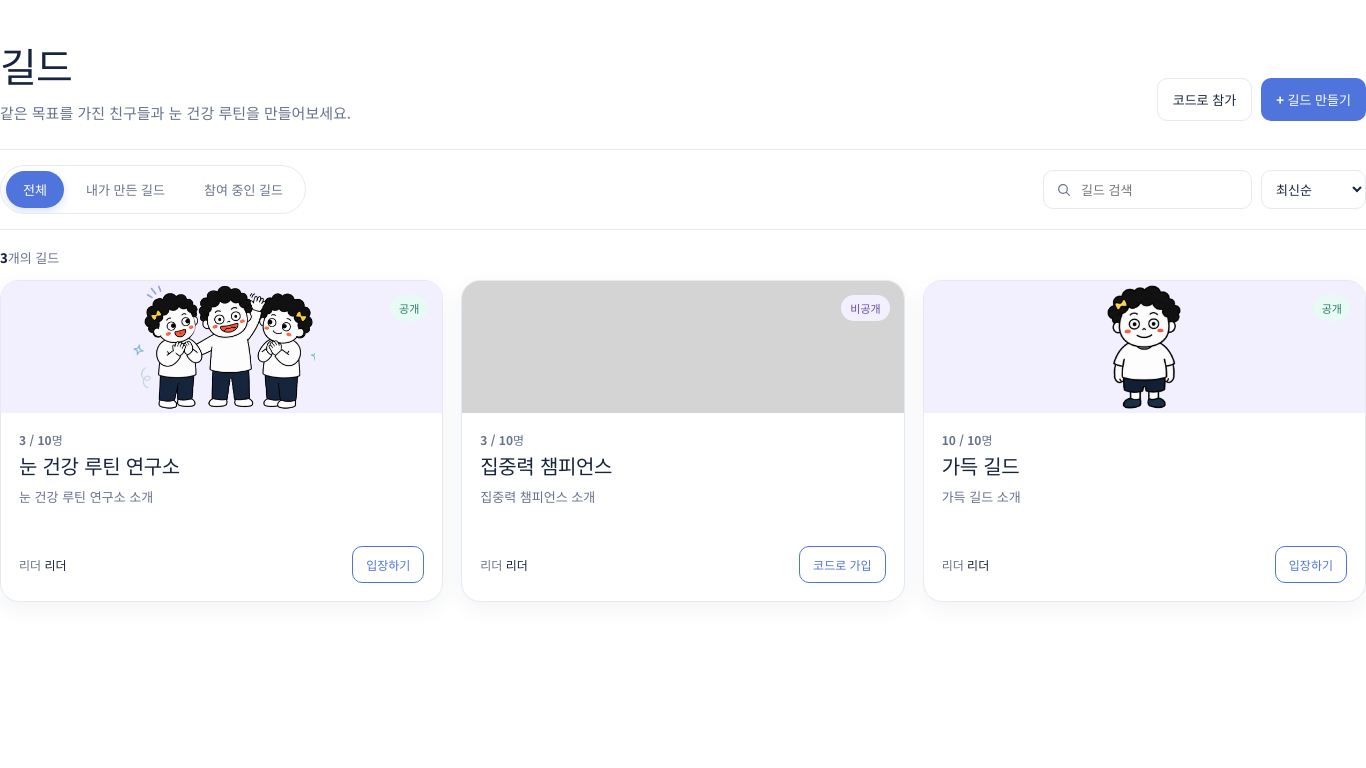
Test: CommunityPage › shows live character counters for group name and description
Click the button with test id "open-create-dialog": click(1314, 100) [1261, 78, 1365, 121]
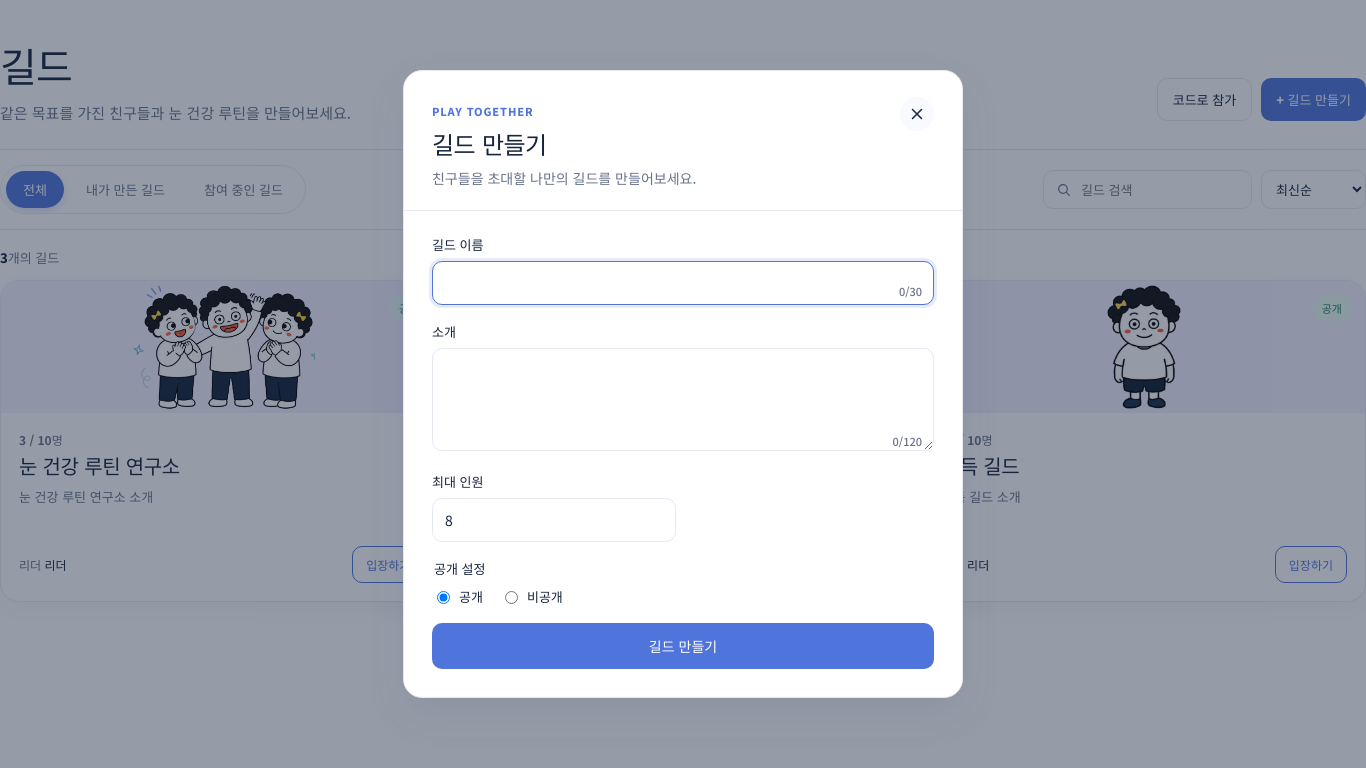
Check: the text with test id "create-group-name-count" reads "0/30", box [899, 283, 922, 299]
Check: the text with test id "create-group-description-count" reads "0/120", box [893, 433, 922, 449]
In the field with test id "create-group-name": (683, 283) [432, 261, 934, 305], type "abcd"
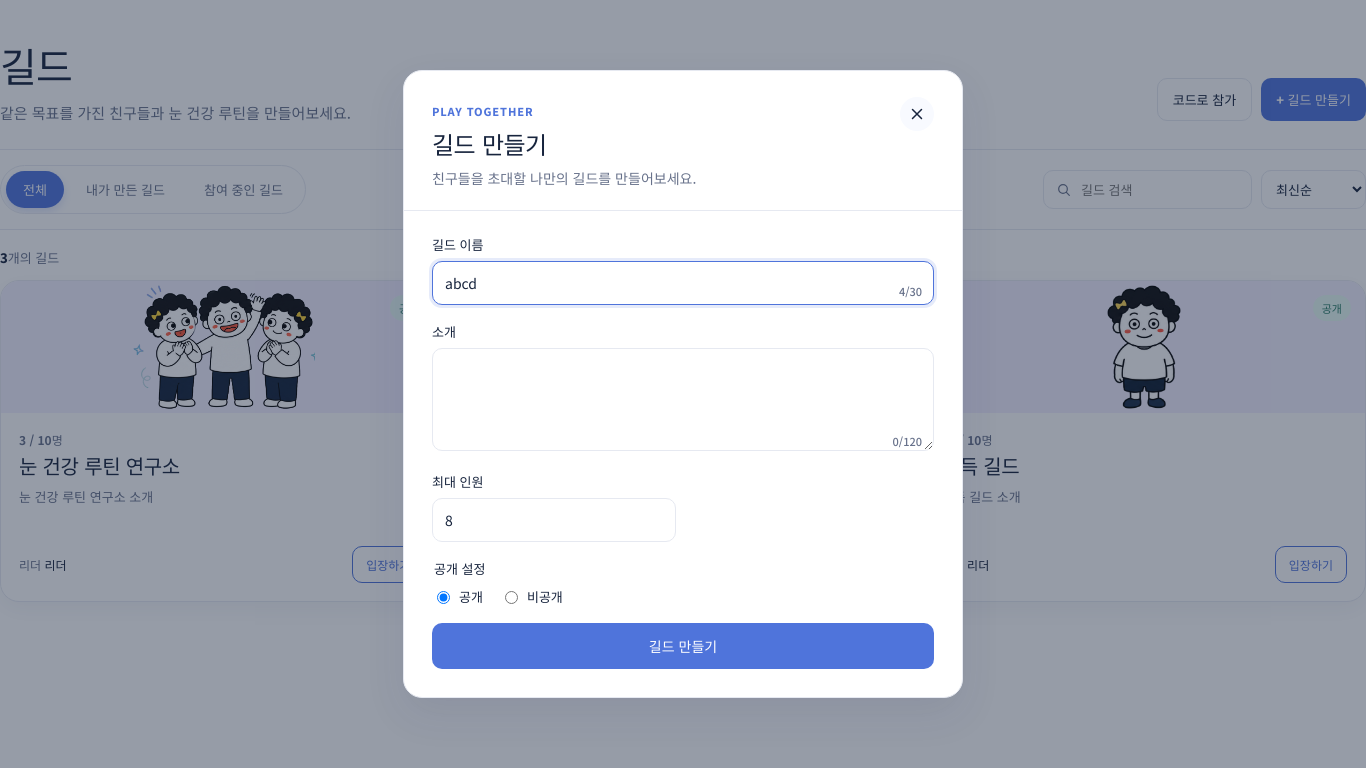
In the text box with test id "create-group-description": (683, 399) [432, 348, 934, 451], type "hello"
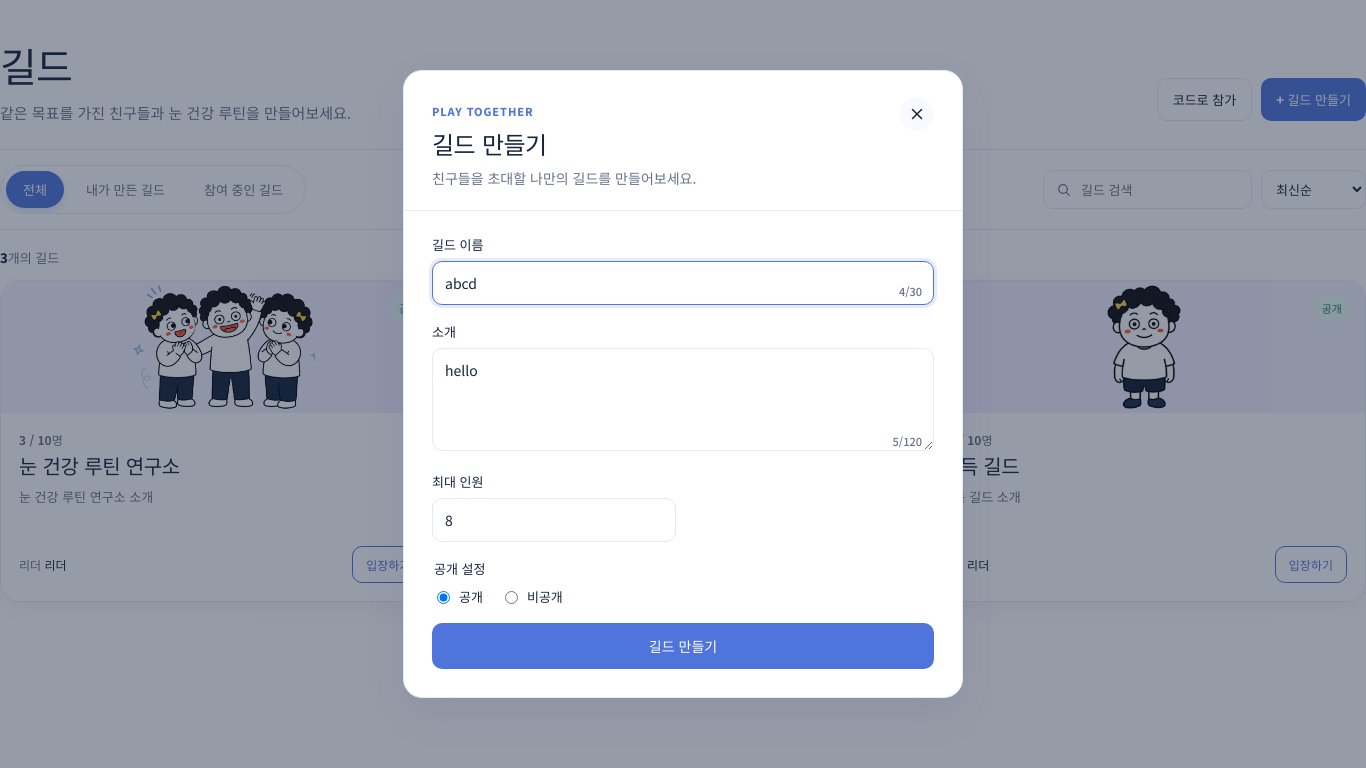
Check: the text with test id "create-group-name-count" reads "4/30", box [899, 283, 922, 299]
Check: the text with test id "create-group-description-count" reads "5/120", box [893, 433, 922, 449]
